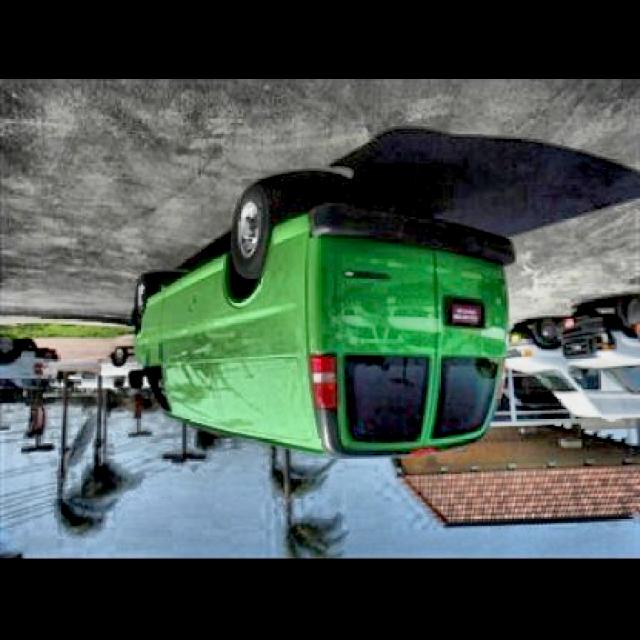green: (112, 210, 497, 438)
